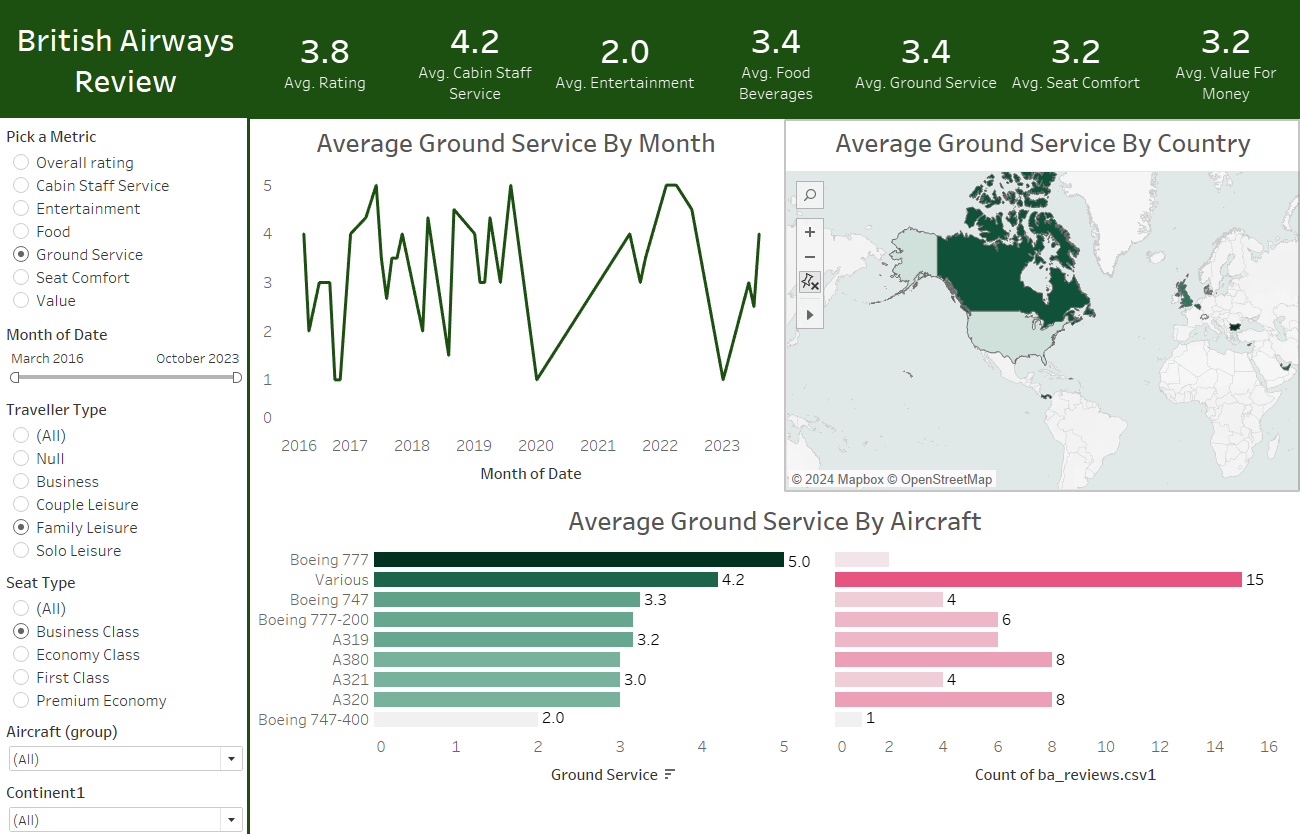

This screenshot's page, from the dashboard's own definition file:
{"tool":"tableau","page":{"name":"Dashboard 1","canvas":[1300,838],"ordinal":0},"visuals":[{"type":"text","box":[0,0,251,118.1]},{"type":"worksheet","title":"summary","mark":"Automatic","box":[250.2,0,1050.8,118.5]},{"type":"blank","box":[247,118,3,719]},{"type":"worksheet","title":"month","mark":"Automatic","rows":["Calculation_770959974868676608"],"cols":["date"],"box":[249,121,534,370]},{"type":"worksheet","title":"map","mark":"Automatic","box":[786,121,514,369]},{"type":"parameter","param":"[Parameters].[Parameter 1]","box":[2.2,122.1,248.1,198]},{"type":"filter","title":"map","param":"[federated.1v3n84l115hh001fog1rb1c1kfyj].[tmn:date:qk]","box":[2.2,320.1,248.1,75]},{"type":"filter","title":"map","param":"[federated.1v3n84l115hh001fog1rb1c1kfyj].[none:traveller_type:nk]","box":[2.2,395.1,248.1,173]},{"type":"worksheet","title":"aircraft","mark":"Bar","cols":["Calculation_770959974868676608","ba_reviews.csv_0C99B7A904BC4C88A5FCBB9FF6FC37C3"],"box":[254,499,1043,335]},{"type":"filter","title":"map","param":"[federated.1v3n84l115hh001fog1rb1c1kfyj].[none:seat_type:nk]","box":[2.2,568.1,248.1,149.1]},{"type":"filter","title":"map","param":"[federated.1v3n84l115hh001fog1rb1c1kfyj].[Aircraft (group)]","box":[2.2,717.2,248.1,61]},{"type":"filter","title":"map","param":"[federated.1v3n84l115hh001fog1rb1c1kfyj].[none:Continent:nk]","box":[2.2,778.2,248.1,61]}]}

Visuals, with their boxes in screenshot pixels (x1, y1, x2, y2), scaled from the page's 1300x838 canvas onto the 1300x834 screenshot:
text: <bbox>0, 0, 251, 118</bbox>
"summary" worksheet: <bbox>250, 0, 1299, 118</bbox>
blank: <bbox>247, 117, 250, 833</bbox>
"month" worksheet: <bbox>249, 120, 783, 489</bbox>
"map" worksheet: <bbox>786, 120, 1299, 488</bbox>
parameter: <bbox>2, 122, 250, 319</bbox>
"map" filter: <bbox>2, 319, 250, 393</bbox>
"map" filter: <bbox>2, 393, 250, 565</bbox>
"aircraft" worksheet (Bar marks): <bbox>254, 497, 1297, 830</bbox>
"map" filter: <bbox>2, 565, 250, 714</bbox>
"map" filter: <bbox>2, 714, 250, 774</bbox>
"map" filter: <bbox>2, 774, 250, 833</bbox>
